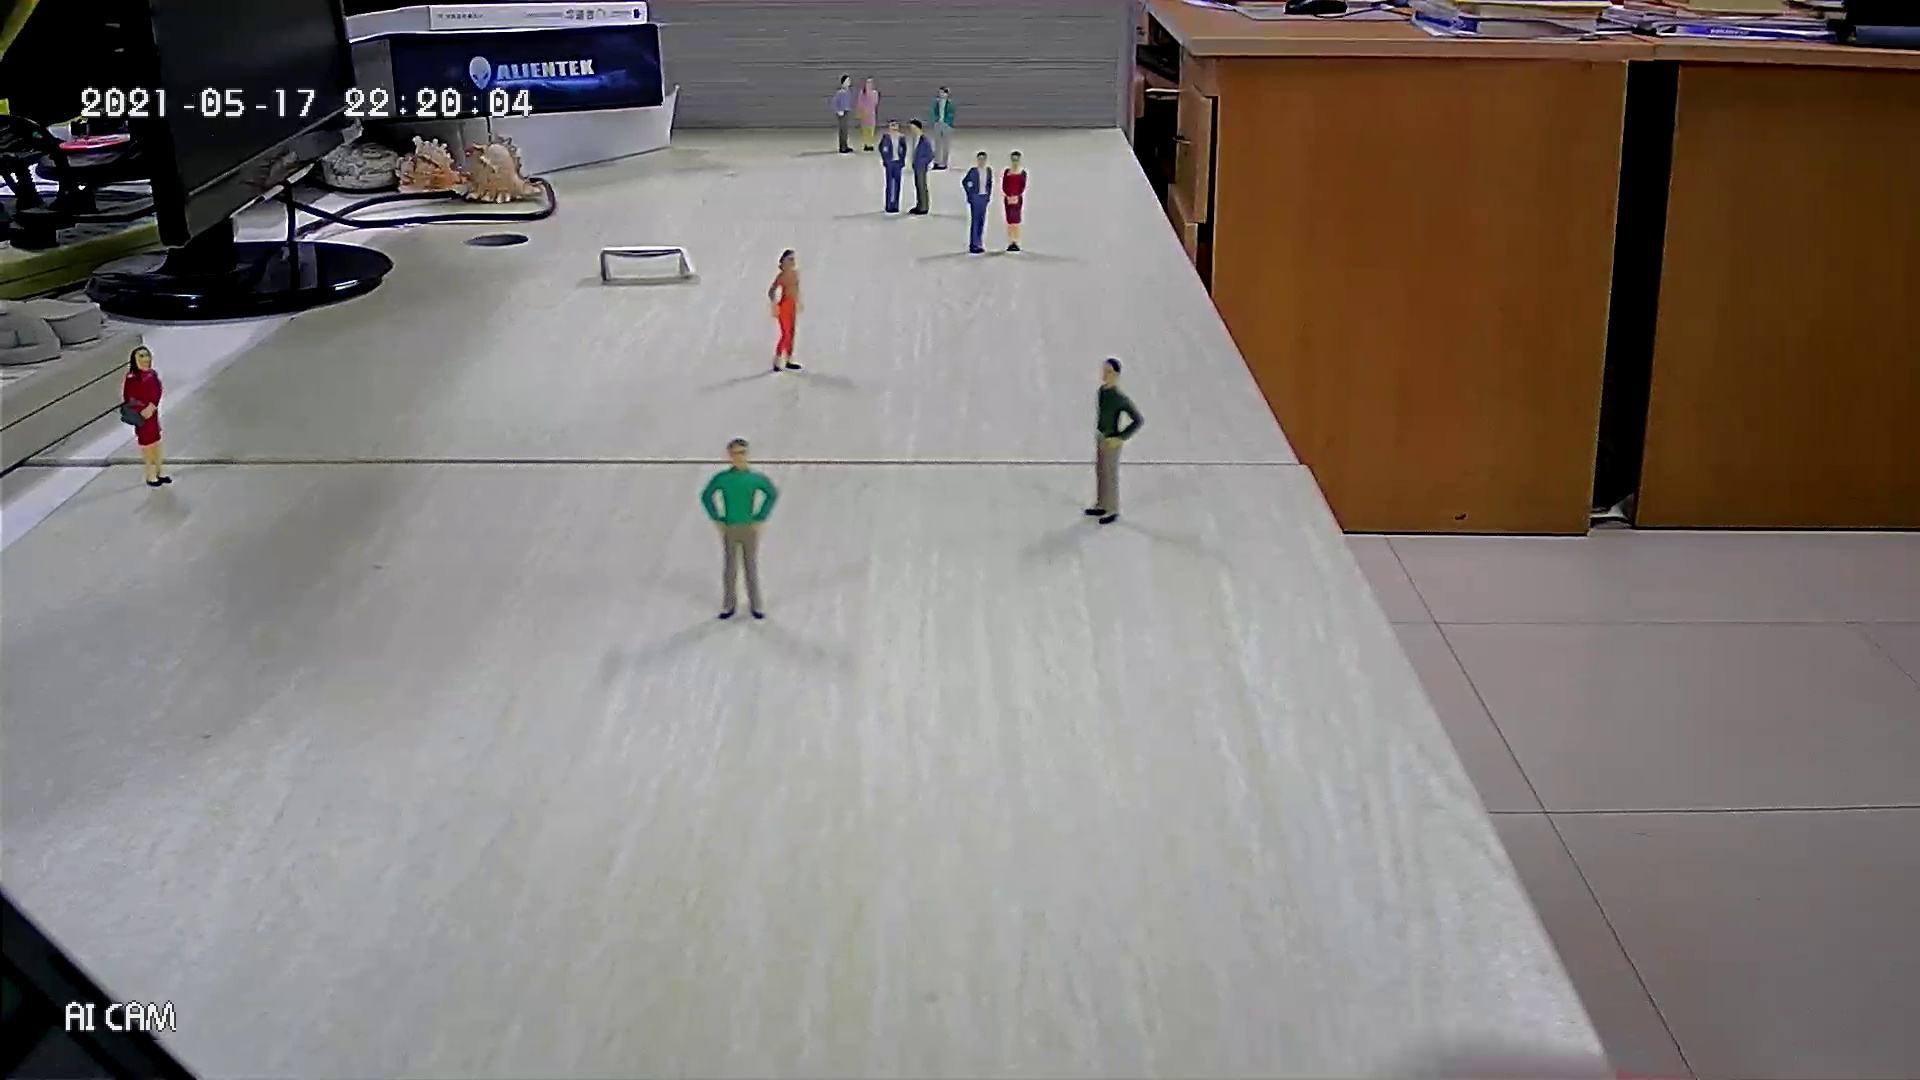person: (696, 434, 779, 621), (1084, 357, 1146, 525), (117, 343, 174, 489), (766, 247, 805, 373), (961, 150, 994, 254), (1000, 150, 1028, 253), (877, 118, 907, 214), (907, 118, 935, 215), (931, 85, 956, 171), (854, 74, 881, 153), (831, 75, 856, 155)
